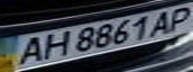1: (127, 13, 157, 42)
6: (112, 17, 136, 46)
8: (72, 25, 100, 54), (93, 21, 118, 51)
A: (9, 34, 51, 66), (145, 8, 178, 38)
H: (33, 29, 72, 61)
P: (160, 4, 193, 34)
